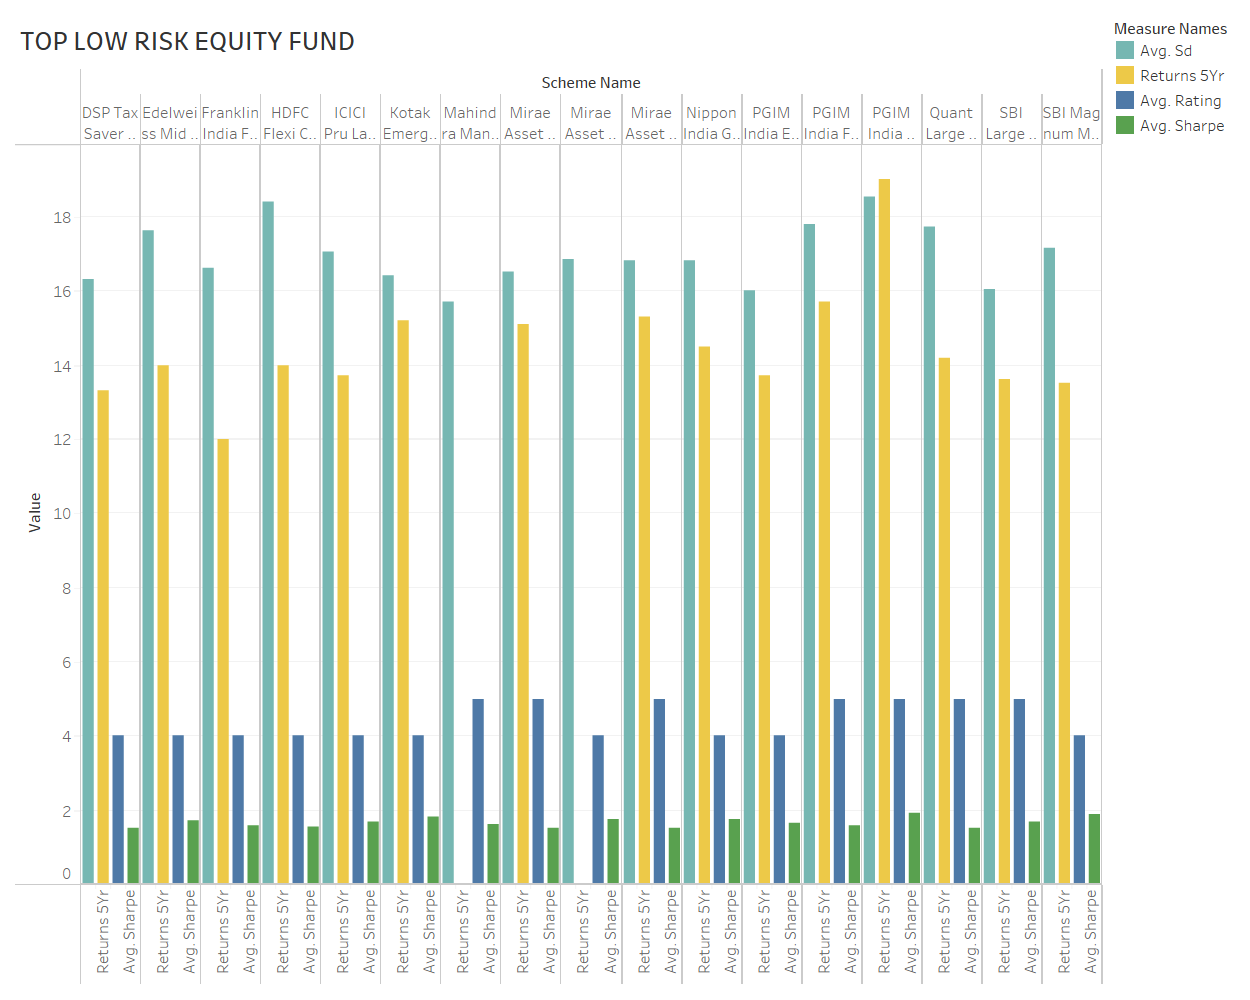

What the dashboard file says about the page in this screenshot:
{"tool":"tableau","page":{"name":"Dashboard 3","canvas":[1000,800],"ordinal":2},"visuals":[{"type":"worksheet","title":"Sheet 8","mark":"Automatic","cols":["scheme_name"],"box":[8,8,878,784]},{"type":"legend","title":"Sheet 8","param":"[federated.12ltlfn0nxvzek1gn3e0n0ypa2he].[:Measure Names]","box":[886,8,106,106]}]}

Visuals, with their boxes in screenshot pixels (x1, y1, x2, y2), scaled from the page's 1000x800 canvas onto the 1250x1000 screenshot:
"Sheet 8" worksheet: BBox(10, 10, 1108, 990)
"Sheet 8" legend: BBox(1108, 10, 1240, 142)
